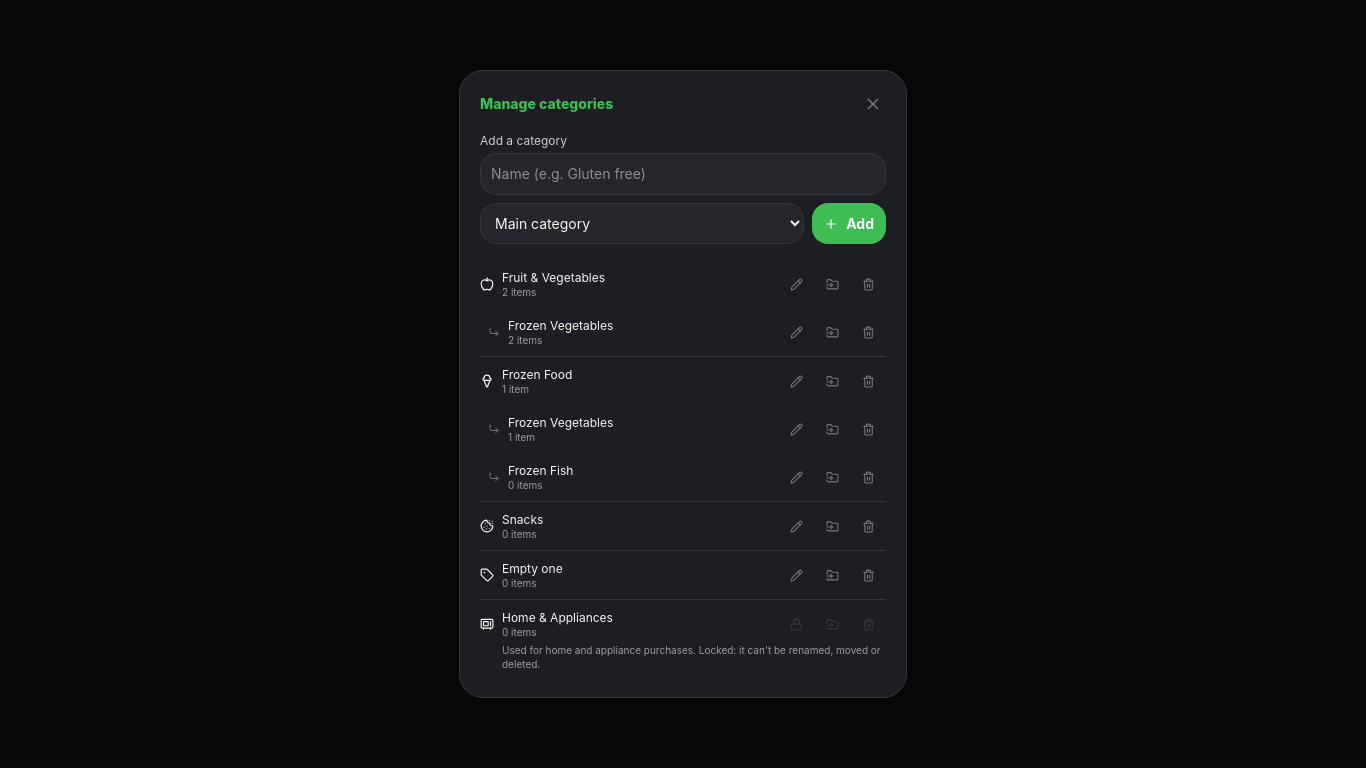
Test: HOME Manage categories › warns while renaming too, without comparing with the category itself
Click the button named "Rename Snacks". click: (796, 526)
box: [778,508,814,544]
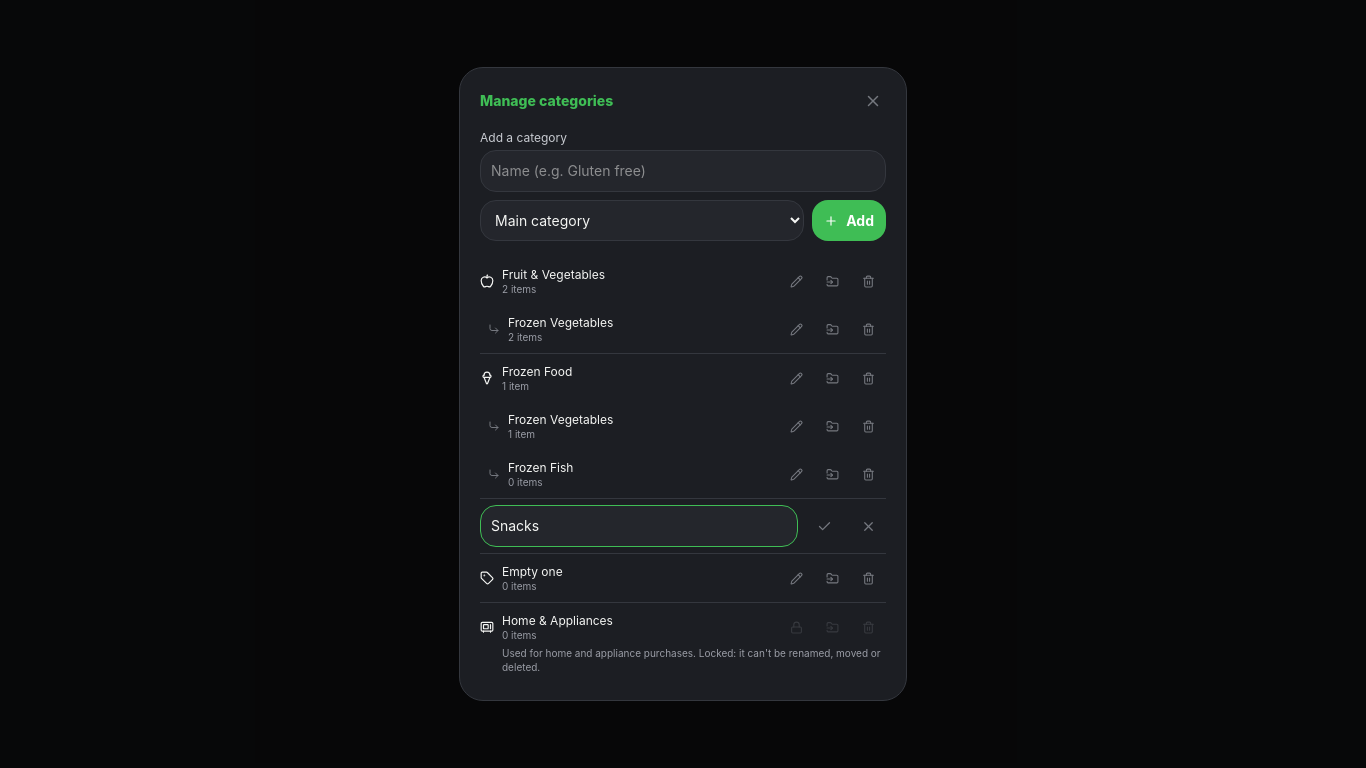
Replace the text in the field named "New name for Snacks" with "Snacs". click: (639, 526)
box: [480,505,798,547]
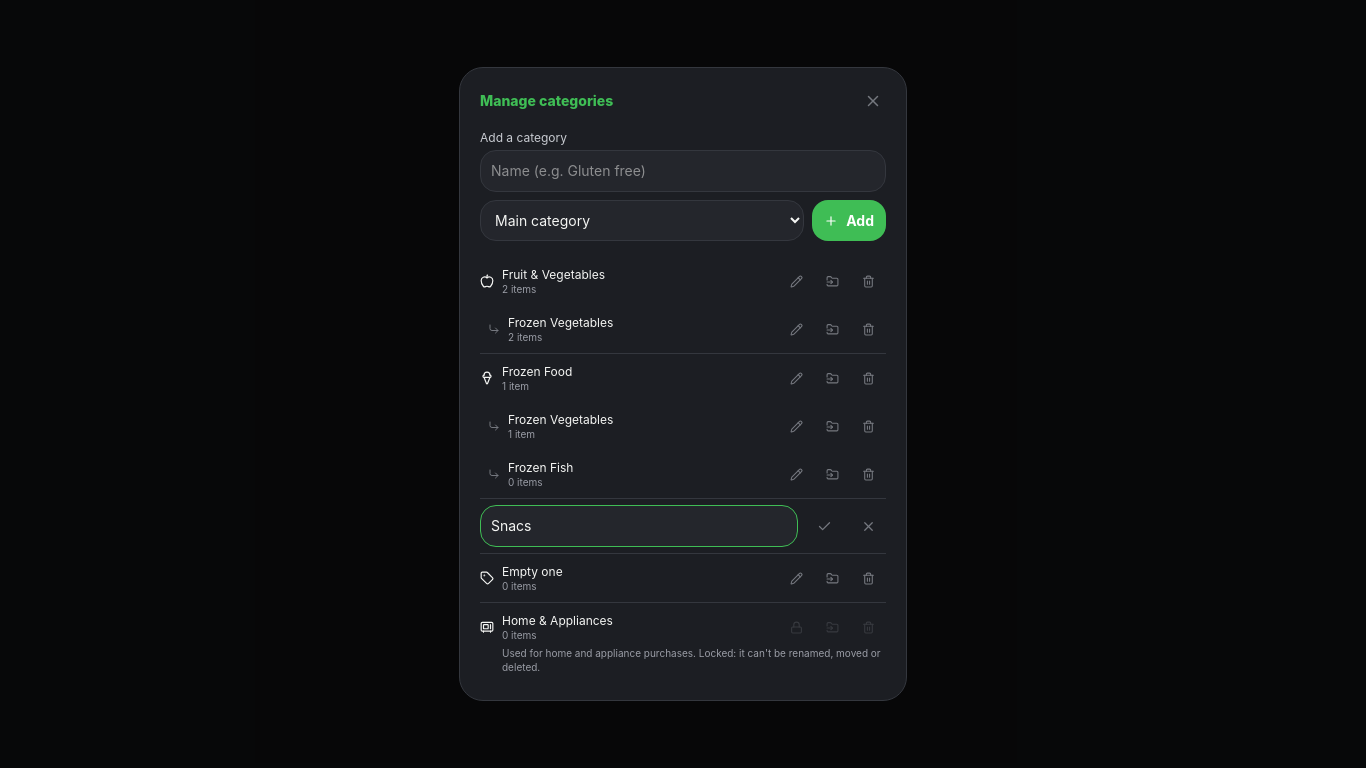
Expected: the text "Similar category exists" is not shown
Replace the text in the field named "New name for Snacks" with "Frozen Fsh". click: (639, 526)
box: [480,505,798,547]
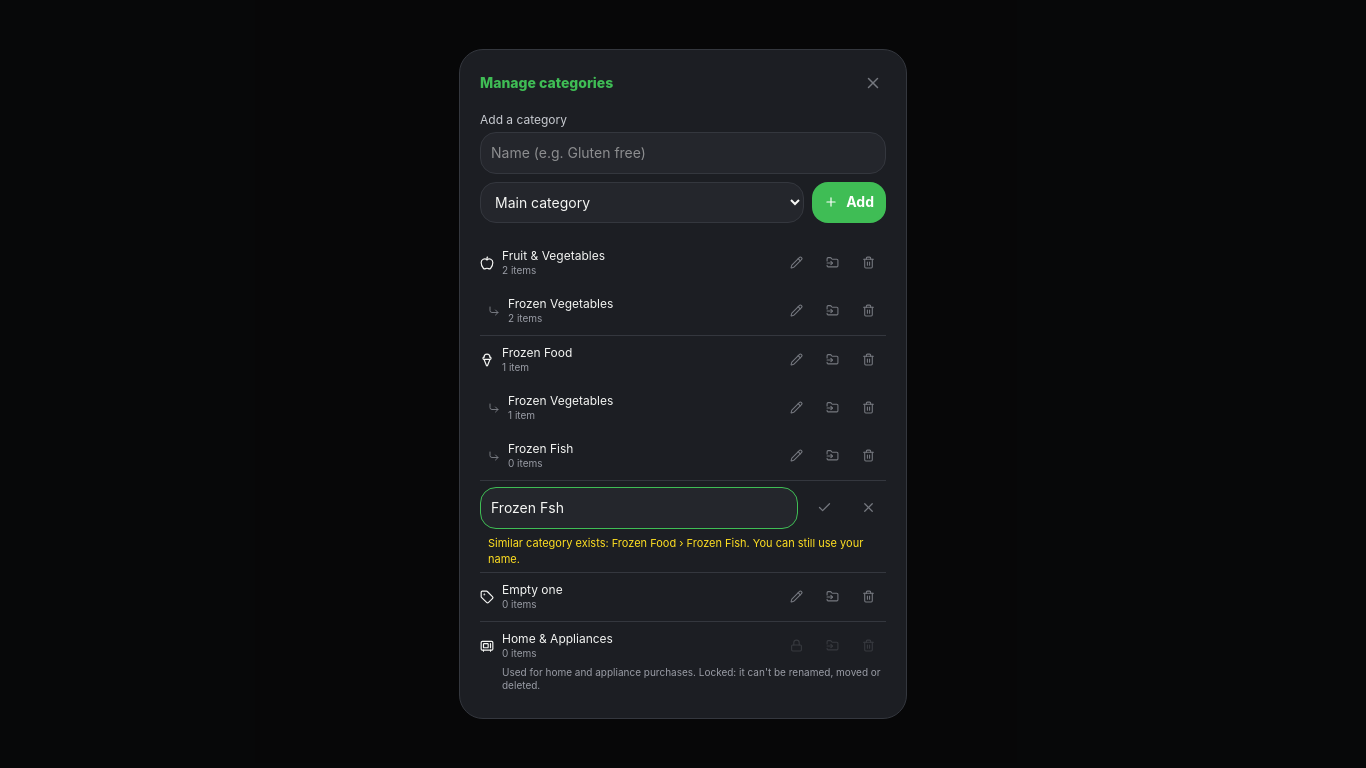
Now the text "Similar category exists: Frozen Food › Frozen Fish" is shown, box [488,535,886,572]
